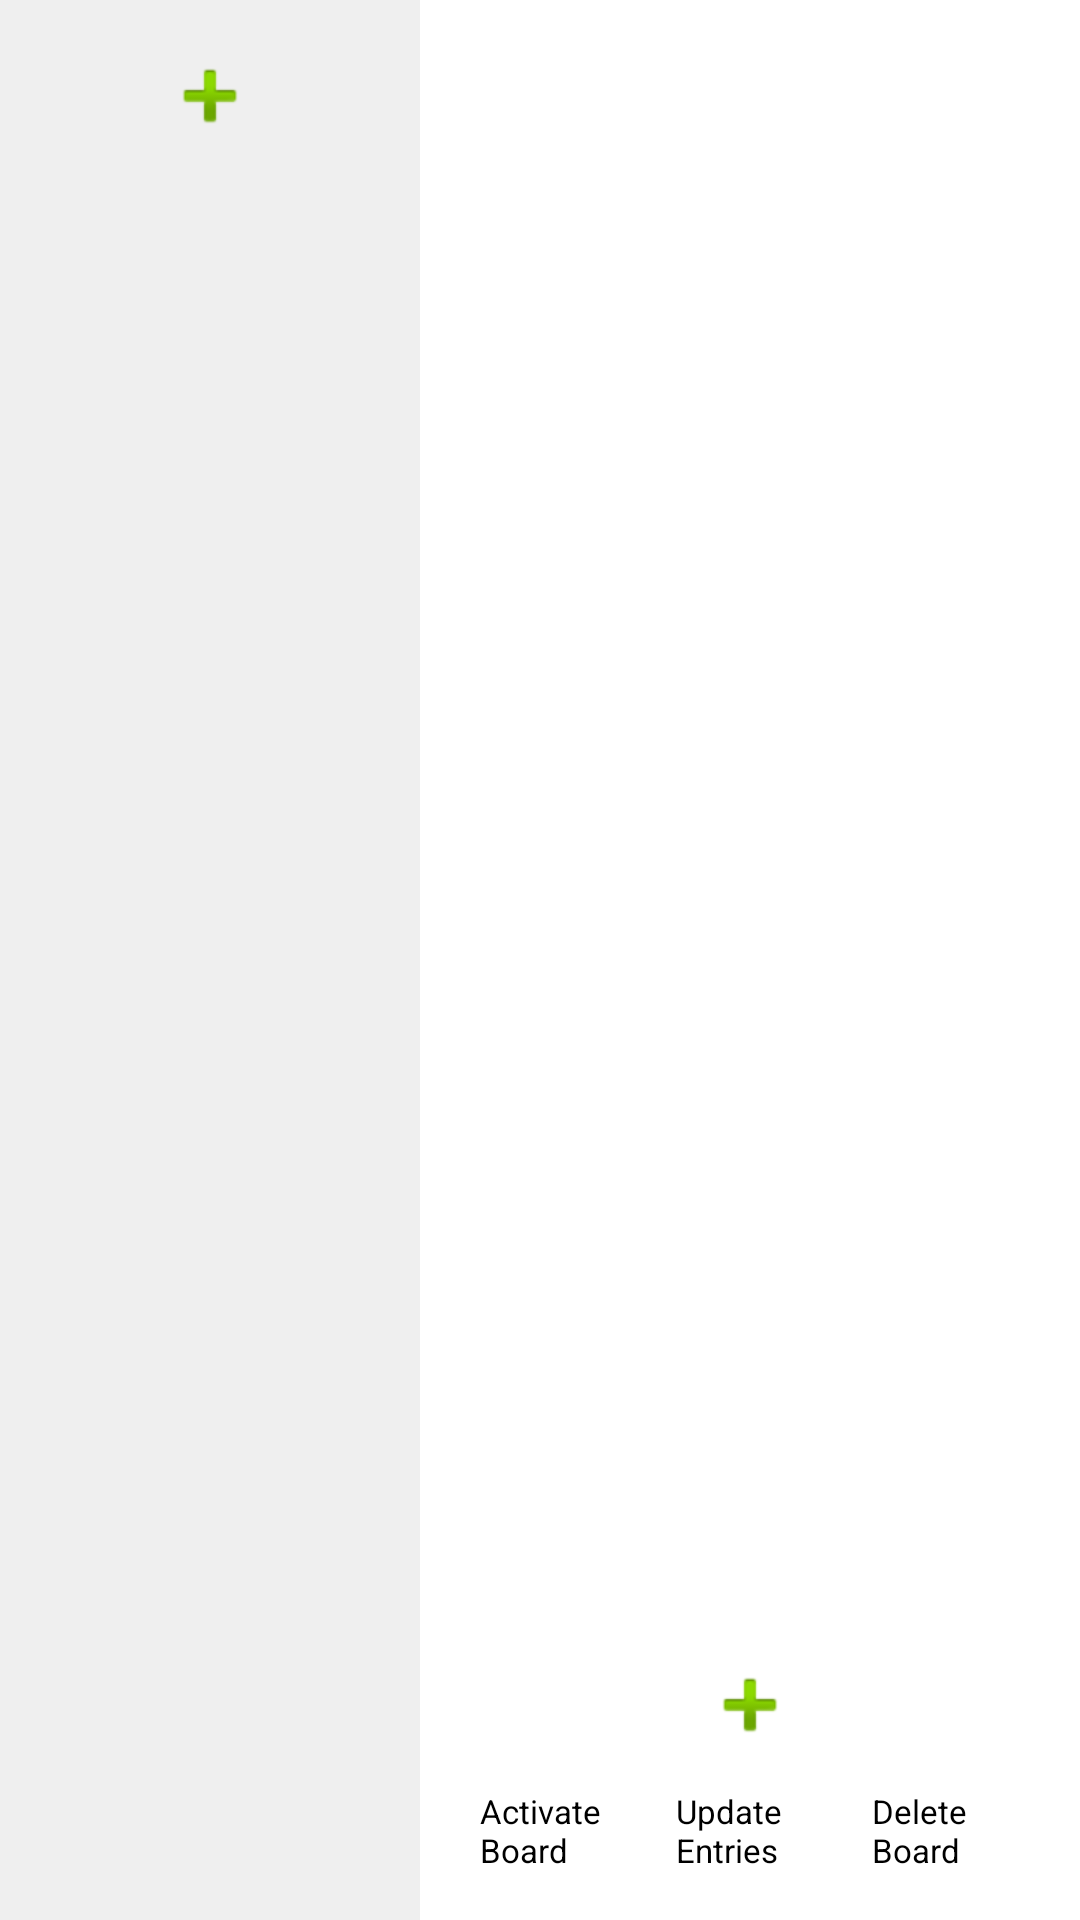

Where to tap for icons on this 1080 x 1920 app screen, as [x,y]:
Add new board: [210,96]
Add new entry: [750,1705]
